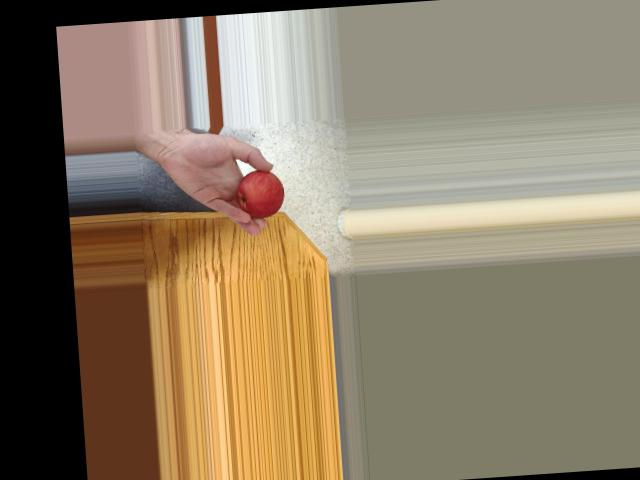apple: (232, 160, 286, 219)
